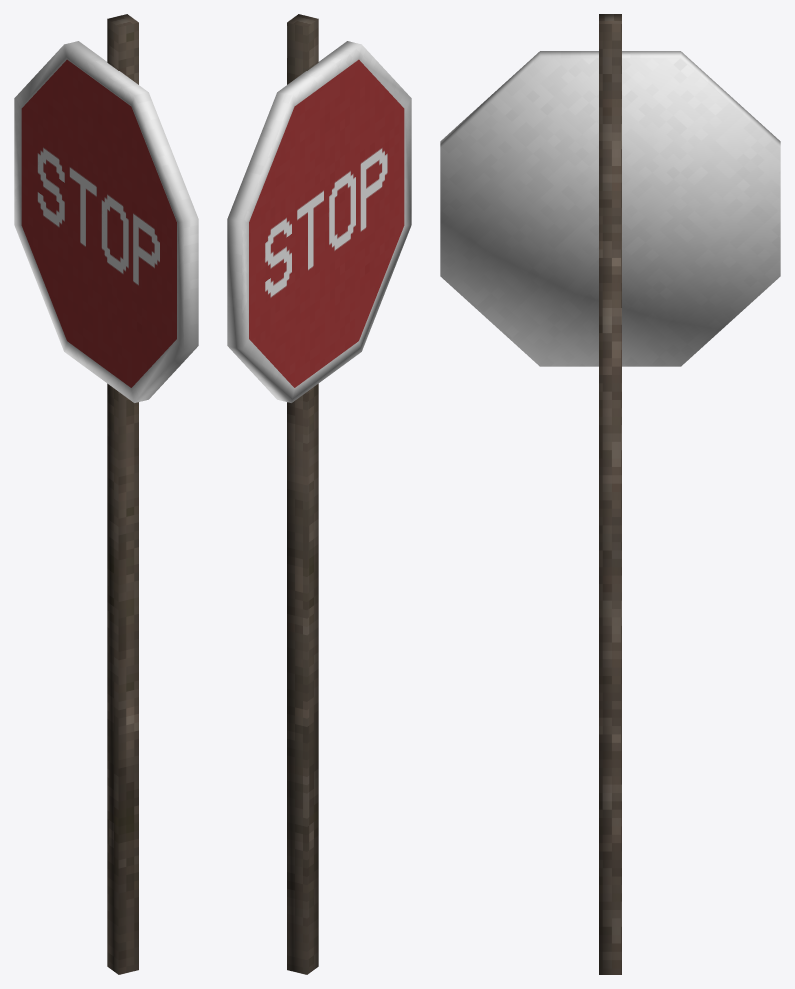
File: signs_3.fbx
The picture shows the model from 3 angles, left to right: view 1: azimuth 30°, elevation 25°; view 2: azimuth 150°, elevation 25°; view 3: azimuth 270°, elevation 25°; orthographic projection.
Visible parts, largest first — view 1: signs_3; view 2: signs_3; view 3: signs_3.
Part boxes in pixels (x1=…): signs_3: x1=14, y1=14, x2=198, y2=974; signs_3: x1=227, y1=14, x2=411, y2=974; signs_3: x1=440, y1=14, x2=780, y2=974.
Size of the model in its own units: 12.26 by 106 by 328.
